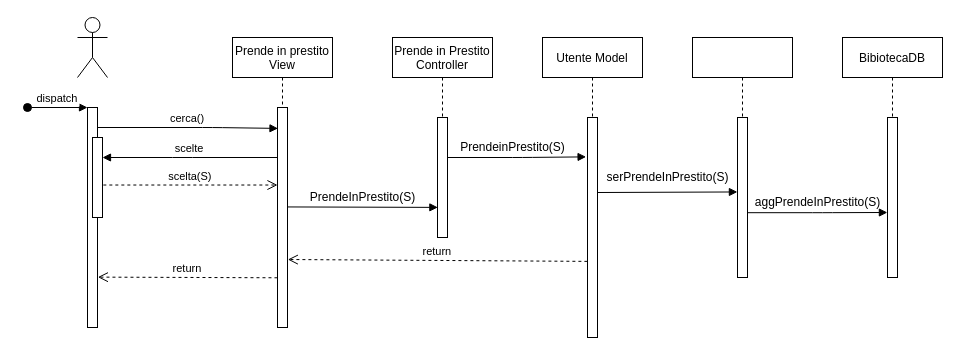
Some shapes in this 960 by 355 pixel diagram are drawn without their labels. Here are the shapes that lost their labels. From the top down, the centre of each, then its label:
point (92, 47): Utenet
point (742, 157): UtenteDAO
